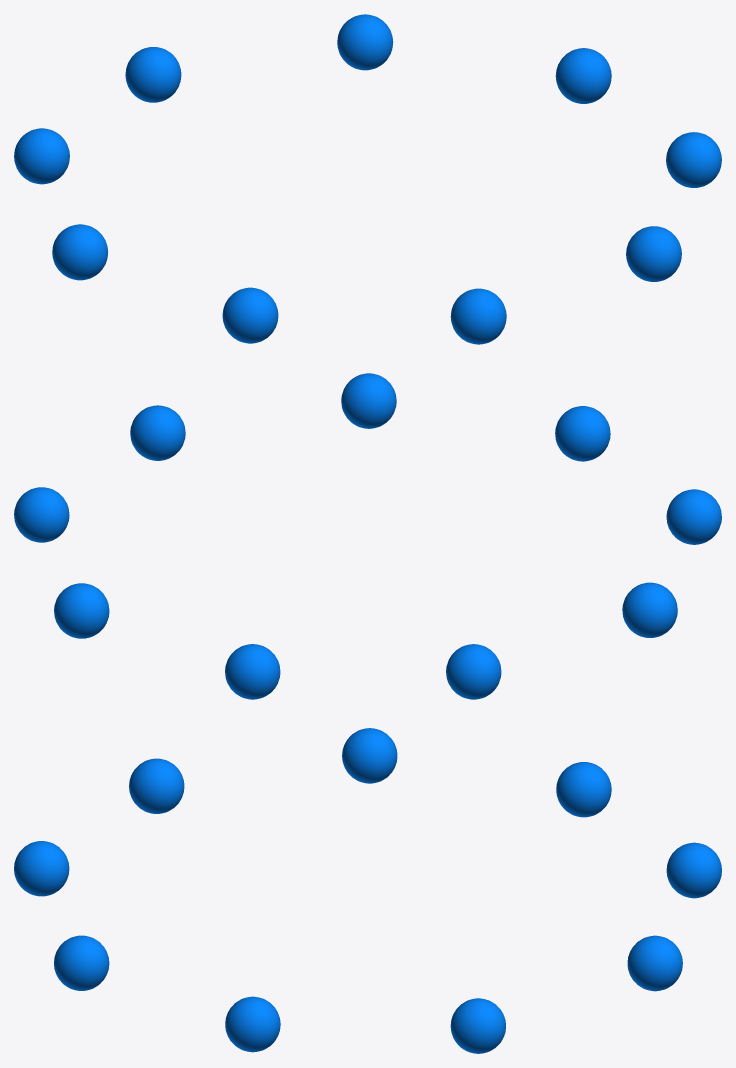
The picture shows the model from 3 angles, top to bottom: view 1: azimuth 30°, elevation 25°; view 2: azimuth 150°, elevation 25°; view 3: azimuth 270°, elevation 25°; orthographic projection.
Parts seen in each view (by area): view 1: Sphere047; view 2: Sphere047; view 3: Sphere047.
Part boxes in pixels (<box>): Sphere047: <box>14,14,721,344</box>; Sphere047: <box>14,373,721,699</box>; Sphere047: <box>14,728,721,1053</box>.
Bounding box in the file's own units: 103 × 8.22 × 105.
